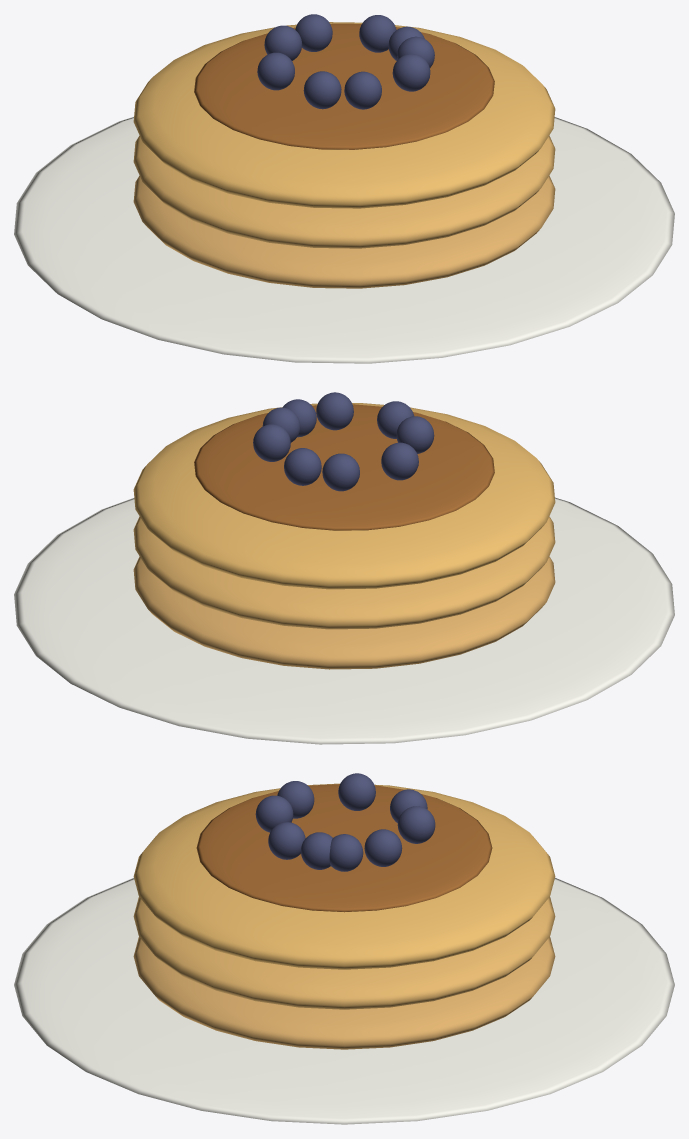
File: pancakes.glb
3 views of the same model, one above another, from view 1: azimuth 30°, elevation 25°; view 2: azimuth 150°, elevation 25°; view 3: azimuth 270°, elevation 25° (orthographic).
Size of the model in its own units: 0.21 by 0.067 by 0.21.
